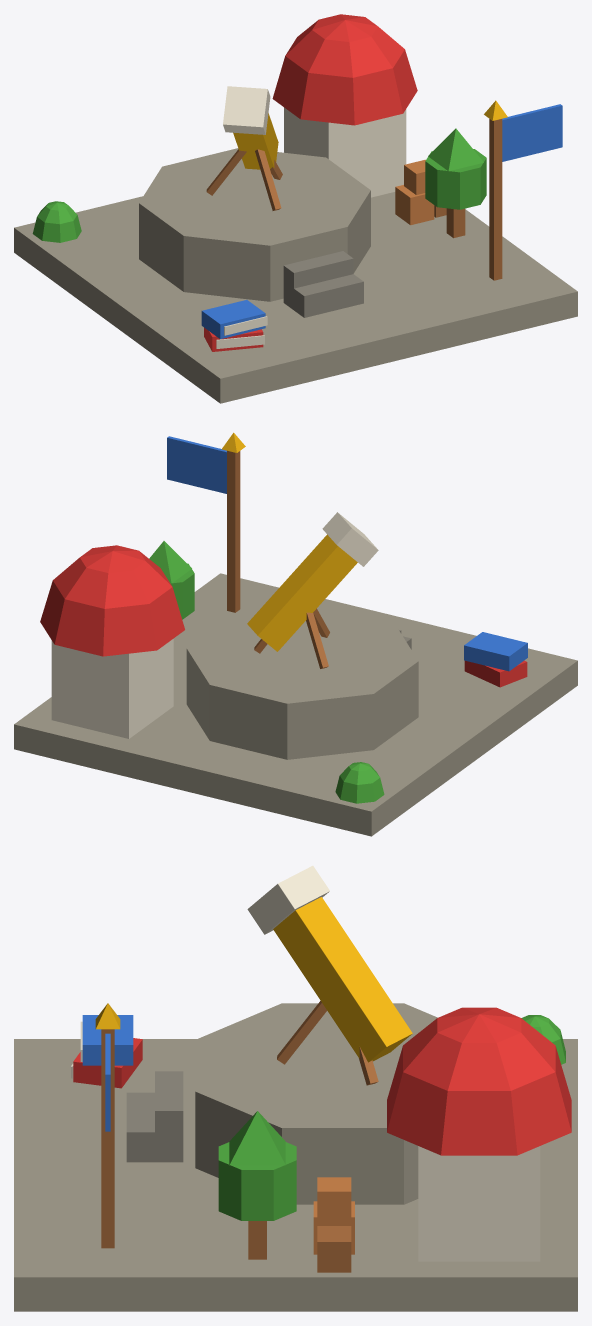
The model's file is observatory_t1_v3.glb.
The picture shows the model from 3 angles, top to bottom: view 1: azimuth 30°, elevation 25°; view 2: azimuth 150°, elevation 25°; view 3: azimuth 270°, elevation 25°; orthographic projection. The views are drawn at different scales.
Parts seen in each view (by area): view 1: observatory_t1_v3; view 2: observatory_t1_v3; view 3: observatory_t1_v3.
Boxes of the visible parts, <box> form: observatory_t1_v3: <box>14,14,577,403</box>; observatory_t1_v3: <box>14,432,577,836</box>; observatory_t1_v3: <box>14,865,577,1311</box>.
Size of the model in its own units: 0.63 by 0.3351 by 0.6.
Materials: 1 (1 with a texture image).
